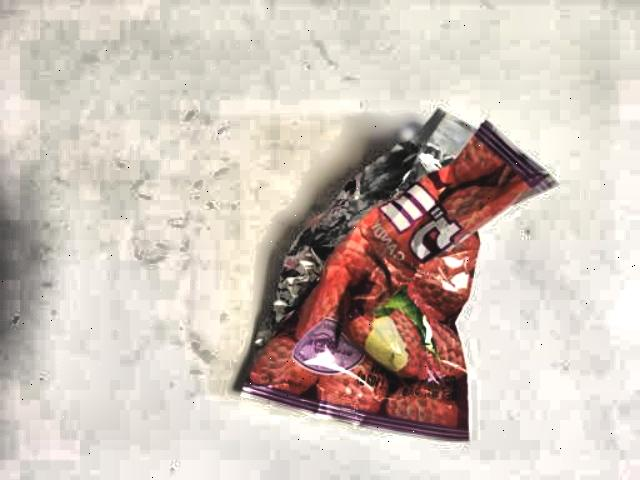Plastic: (228, 92, 574, 458)
